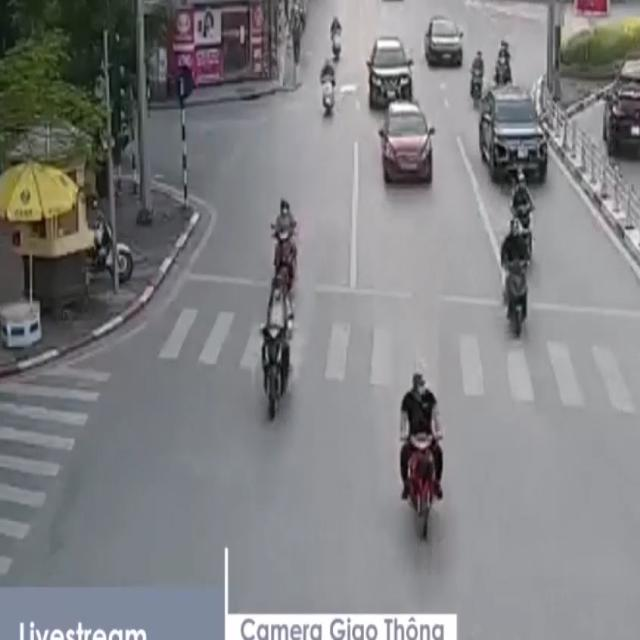car: (480, 87, 548, 182), (381, 100, 434, 186), (604, 58, 640, 162), (368, 38, 415, 104), (425, 17, 464, 69)
motorbike: (394, 370, 448, 541), (258, 274, 294, 420), (498, 216, 532, 340), (271, 196, 300, 276), (510, 170, 536, 233), (315, 55, 339, 119), (467, 42, 487, 112), (327, 12, 348, 67), (495, 38, 516, 91)
